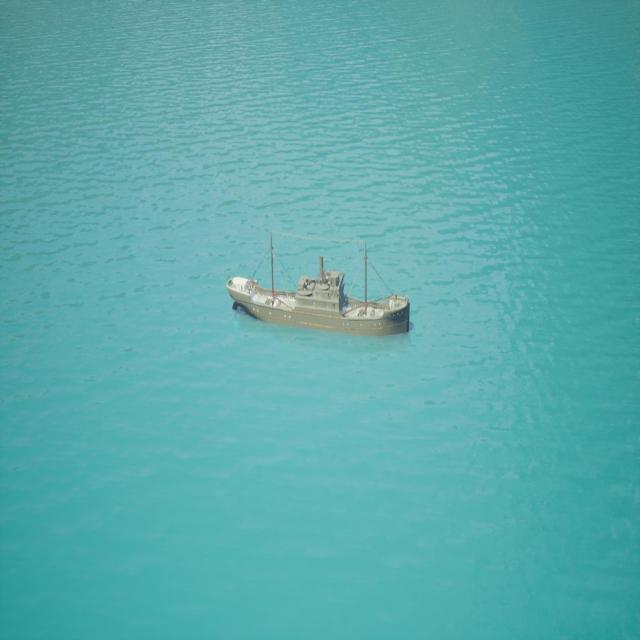fishing ship: (228, 249, 412, 340)
